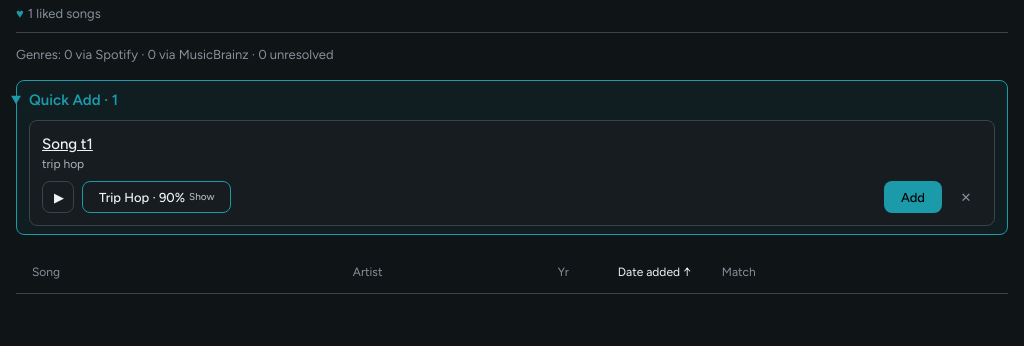
Scenario: rolls the row back when a remove-only unsave fails
# Queried by title: the button's ✕ text content wins the accessible name.
Click the button titled "remove from liked songs": (966, 197) [950,181,982,213]
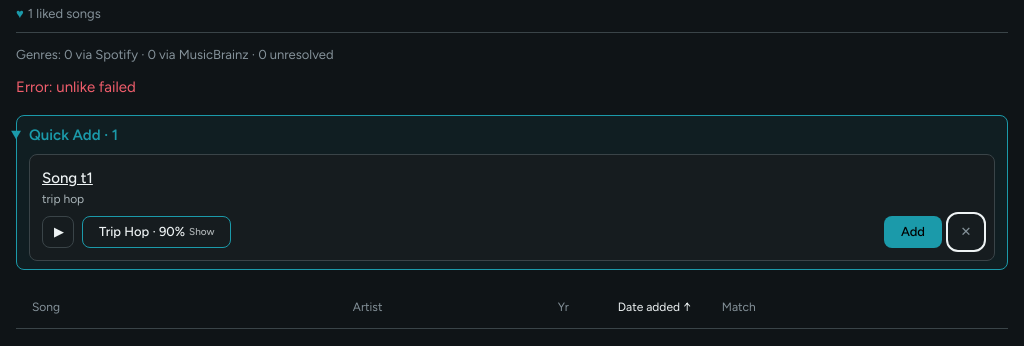
Result: the message shows "unlike failed" at [16,78,136,96]
